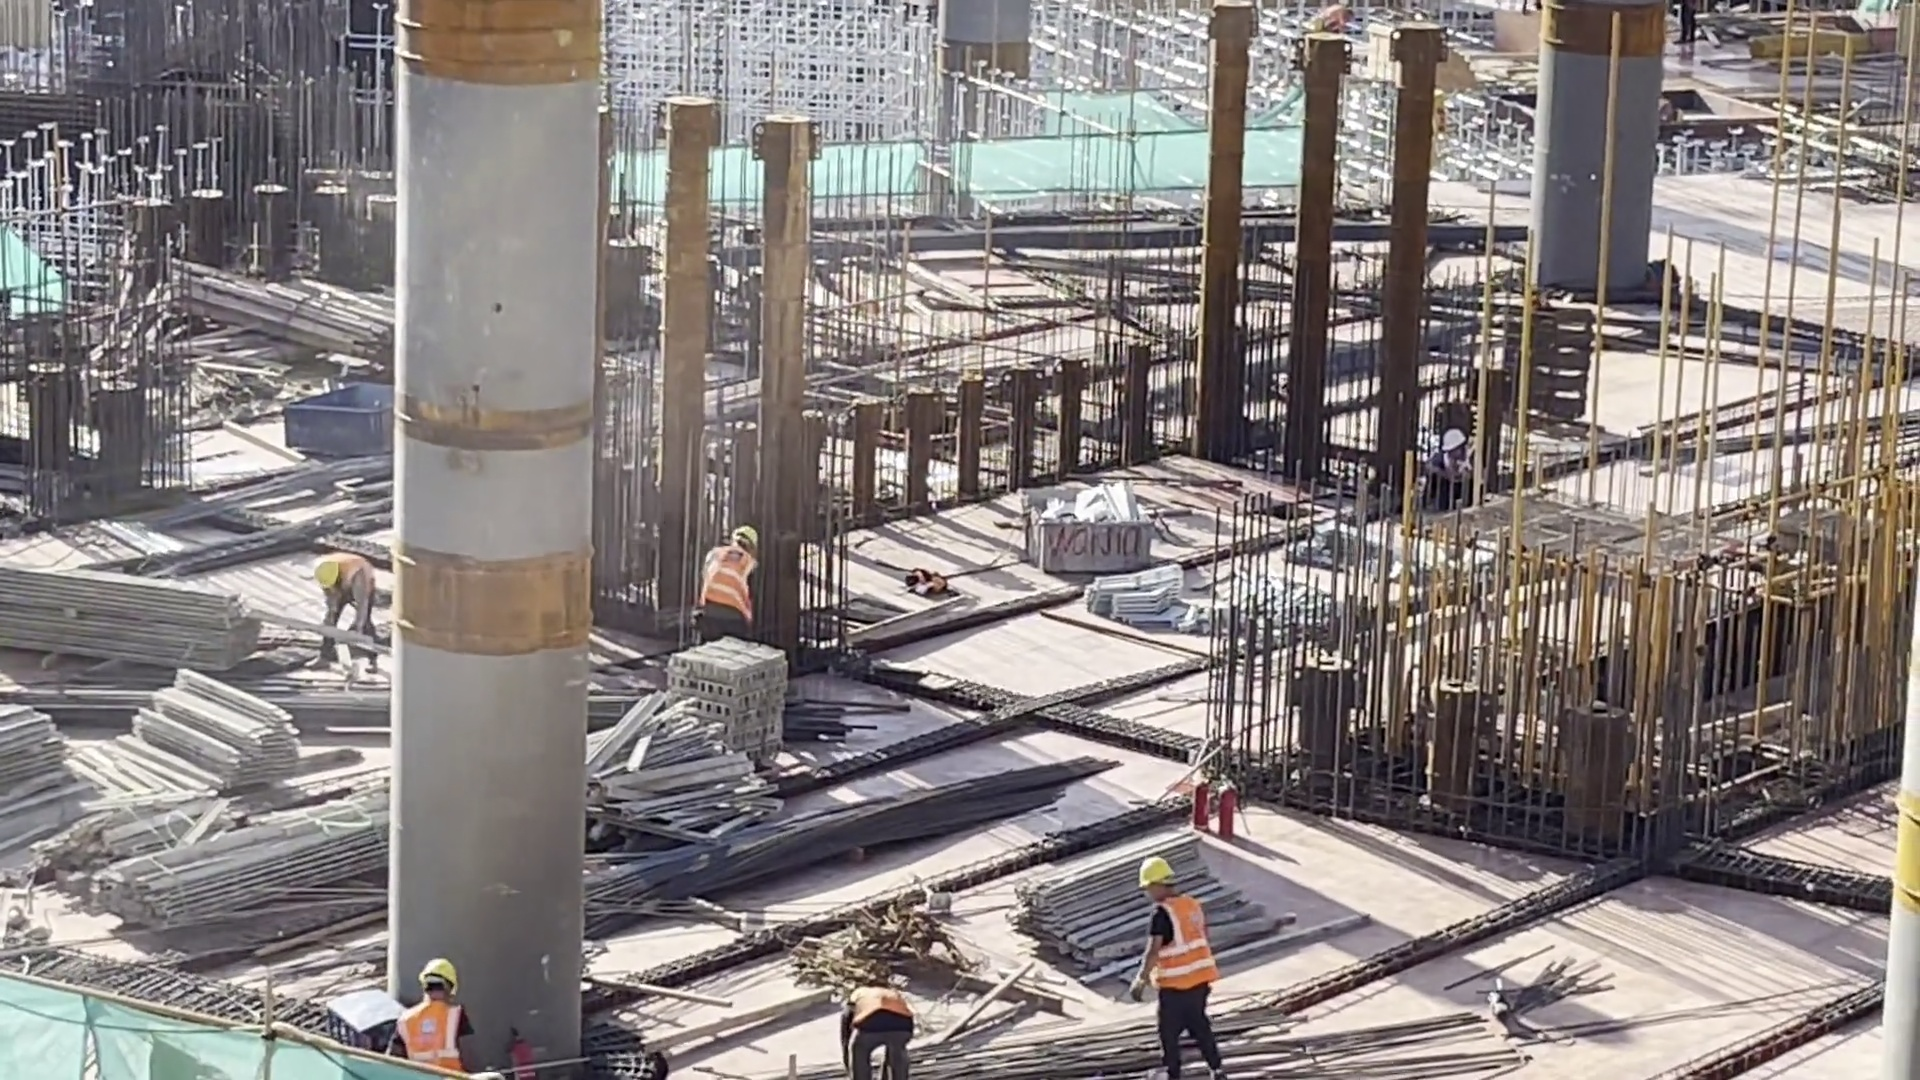helmet: (318, 554, 349, 592), (1131, 834, 1164, 864), (731, 526, 758, 554), (1451, 432, 1474, 452), (439, 969, 458, 986)
hopper: (1013, 481, 1159, 577), (278, 369, 411, 461)
person: (1129, 856, 1221, 1053), (313, 545, 383, 673), (836, 980, 923, 1078), (399, 966, 472, 1080), (698, 523, 748, 653), (1419, 401, 1479, 480), (1674, 1, 1703, 51), (1325, 1, 1364, 35)
rebar: (681, 1005, 1543, 1078), (119, 446, 411, 535), (684, 777, 984, 861), (1, 684, 379, 745), (1689, 404, 1920, 473)
vest: (1144, 892, 1209, 999), (853, 976, 913, 1036), (704, 549, 749, 617), (413, 1012, 459, 1067), (1444, 452, 1478, 499), (344, 562, 369, 609), (1329, 1, 1359, 32)
wood: (218, 264, 411, 384)
